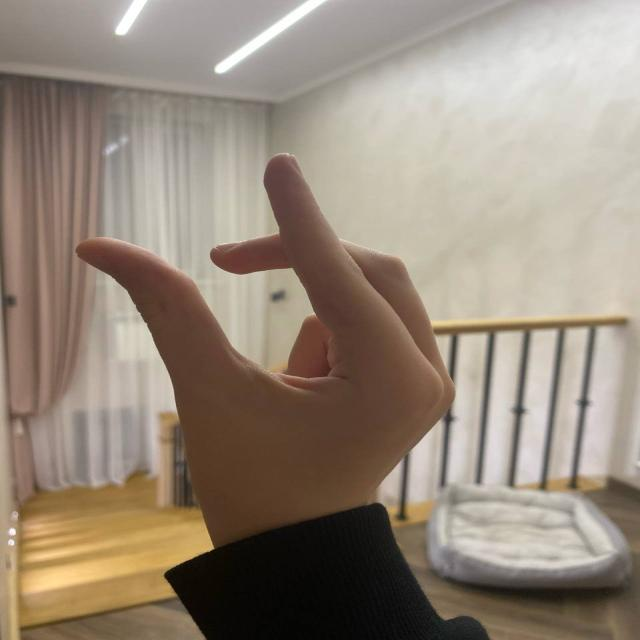b: (74, 152, 442, 450)
